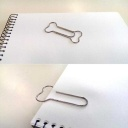Metal: (30, 81, 95, 115), (40, 15, 91, 50)
